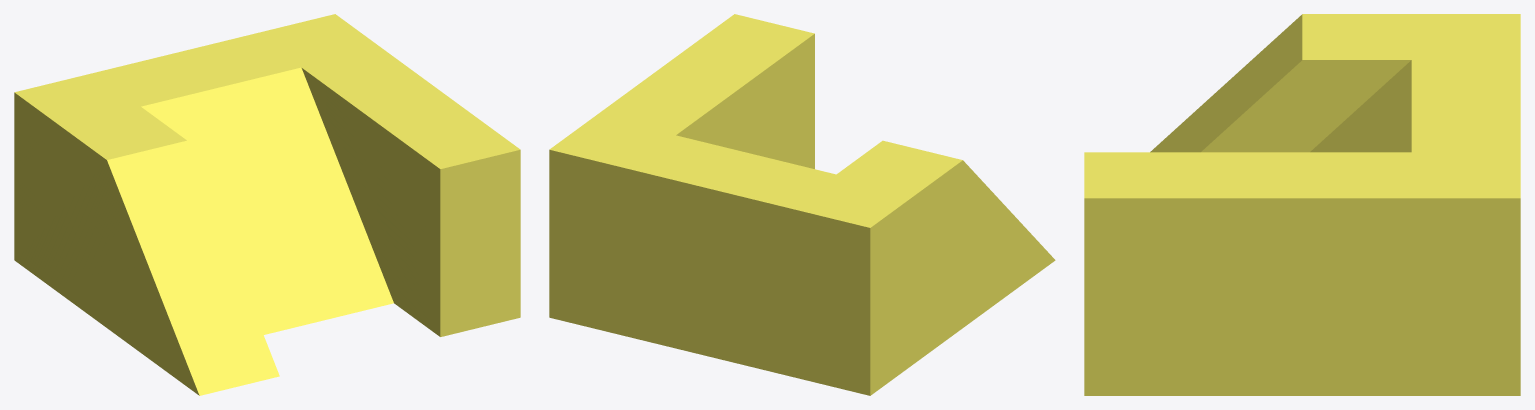
The picture shows the model from 3 angles, left to right: view 1: azimuth 30°, elevation 25°; view 2: azimuth 150°, elevation 25°; view 3: azimuth 270°, elevation 25°; orthographic projection. The views are drawn at different scales.
Parts seen in each view (by area): view 1: 915; view 2: 915; view 3: 915.
Part boxes in pixels (box(x1,y1,x2,y2)): 915: box(14, 14, 520, 395); 915: box(549, 14, 1055, 395); 915: box(1084, 14, 1520, 395).
Bounding box in the file's own units: 0.06 × 0.03 × 0.06.
